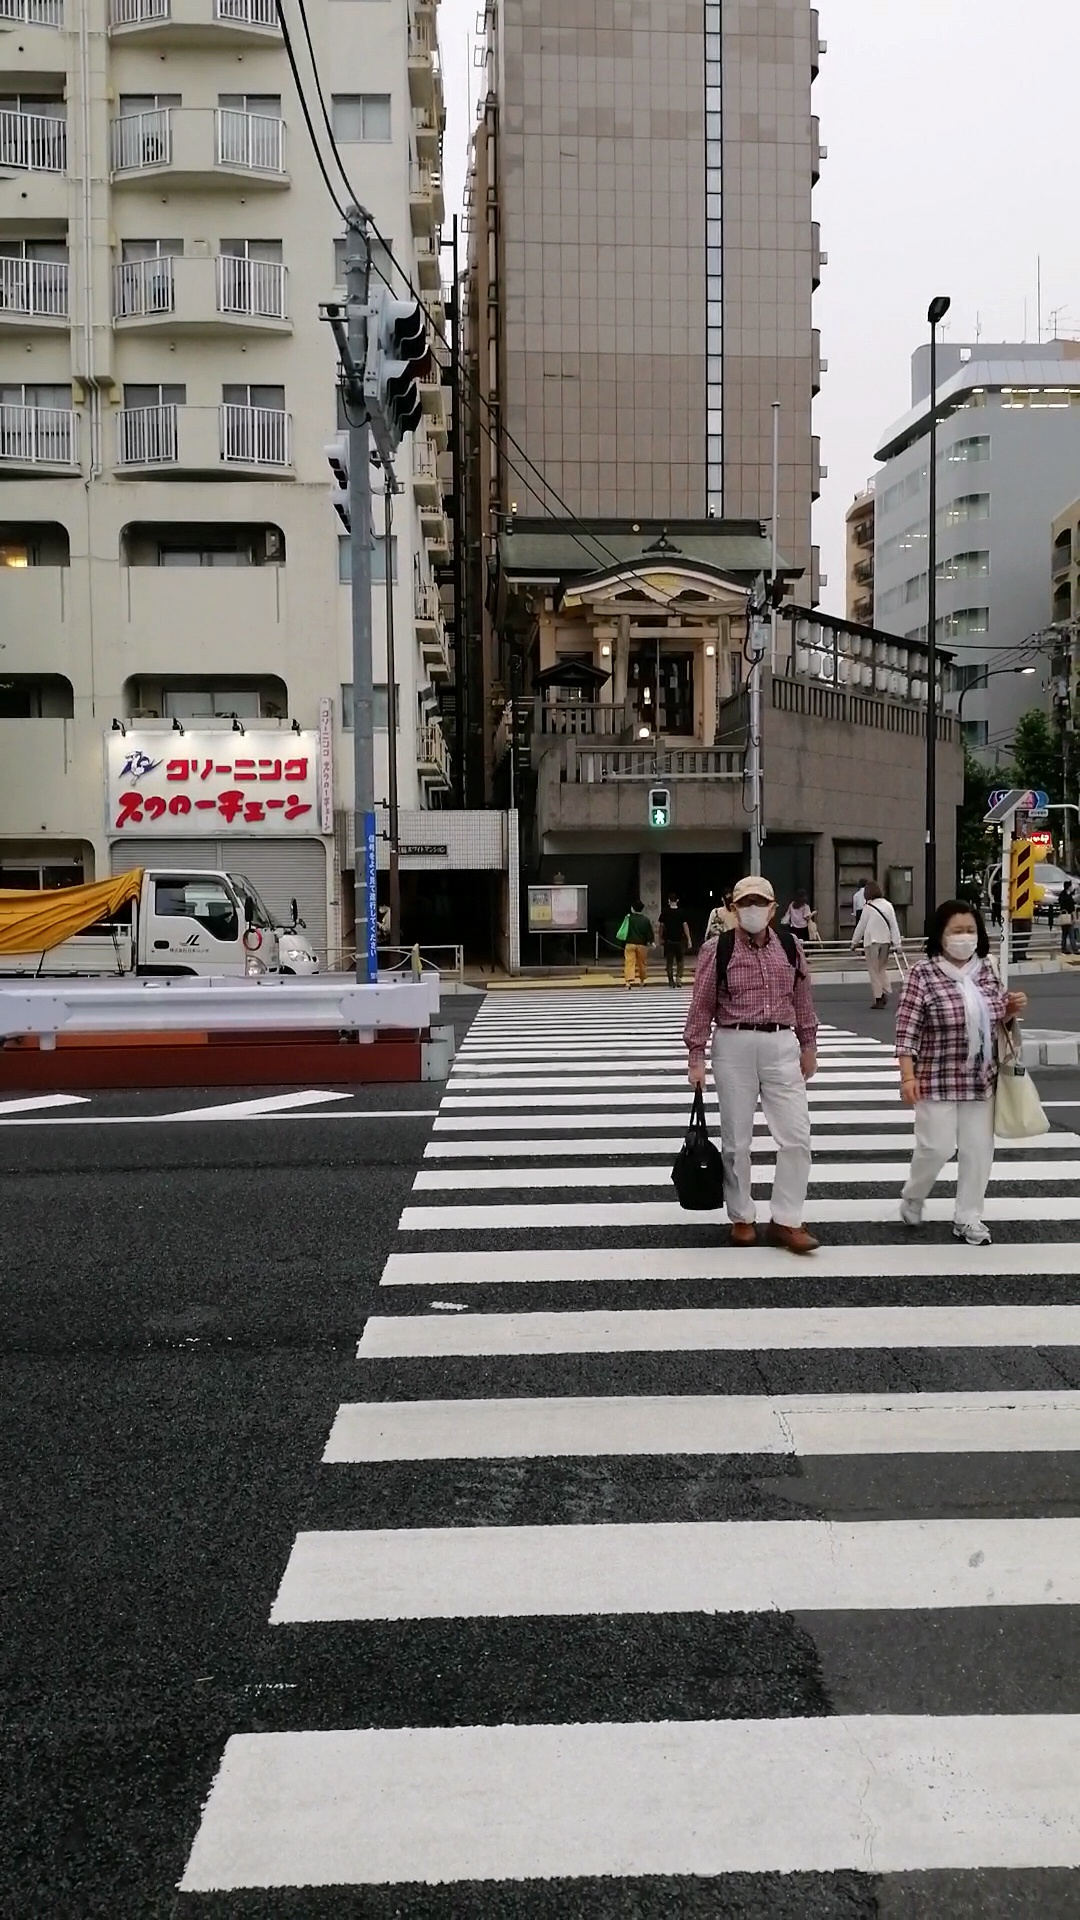green: (647, 787, 670, 827)
